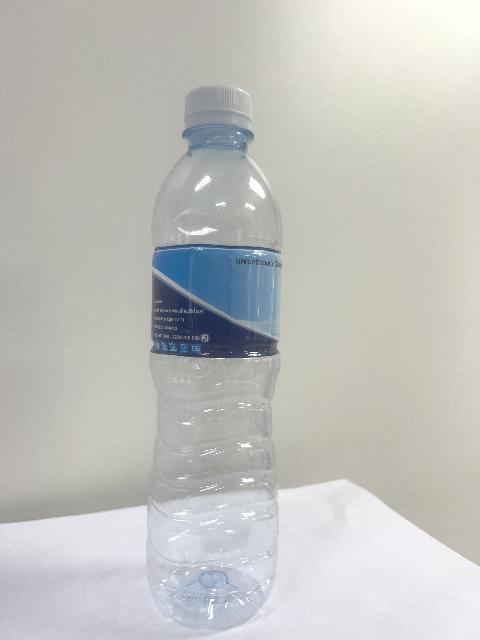bottle: (146, 86, 281, 628)
